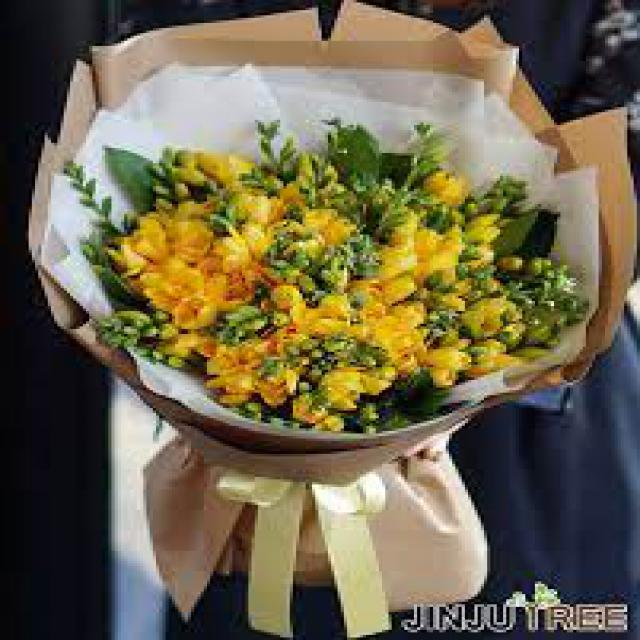freesia: (126, 224, 262, 330), (331, 280, 426, 364)
